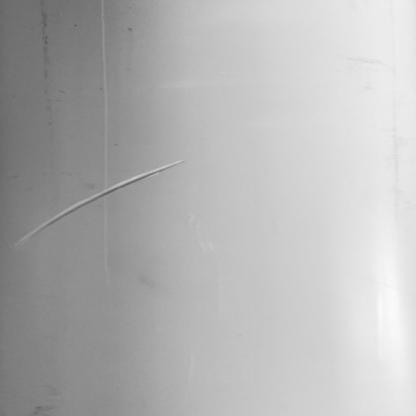sunshang: (11, 161, 181, 245)
